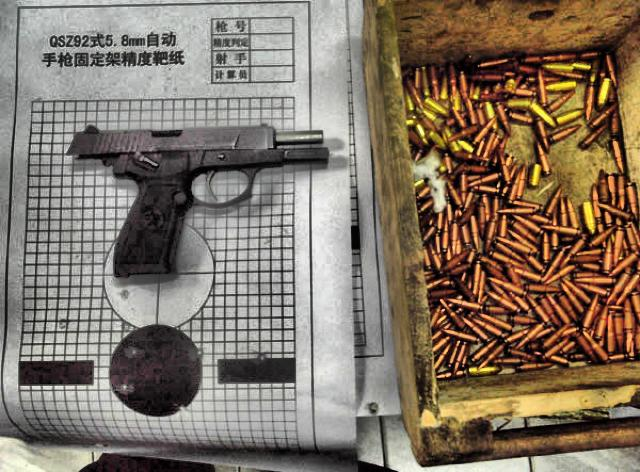pistol: (64, 120, 328, 277)
